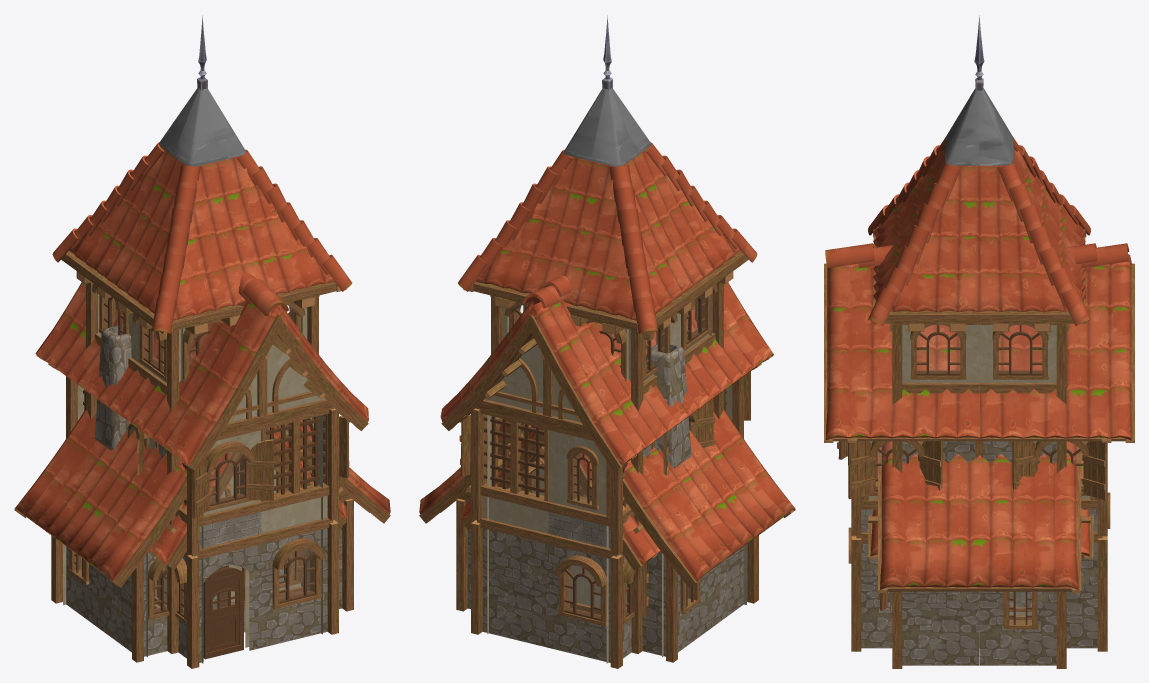
File: buildings.glb
3 renders of one model, left to right at view 1: azimuth 30°, elevation 25°; view 2: azimuth 150°, elevation 25°; view 3: azimuth 270°, elevation 25°, orthographic.
Parts seen in each view (by area): view 1: Roof_Tower_RoundTiles, Roof_RoundTiles_4x6, Roof_RoundTiles_6x4, Corner_Exterior_Wood (×11), Window_Wide_Round1 (×7), Wall_UnevenBrick_Window_Wide_Round (×3), Wall_Plaster_WoodGrid, Roof_Front_Brick4, Wall_Plaster_Window_Wide_Round (×2), Wall_UnevenBrick_Door_Round, Door_1_Round, WindowShutters_Wide_Round_Open (×2) (+4 smaller); view 2: Roof_Tower_RoundTiles, Roof_RoundTiles_4x6, Roof_RoundTiles_6x4, Wall_UnevenBrick_Straight (×3), Corner_Exterior_Wood (×11), Wall_Plaster_WoodGrid, Roof_Front_Brick4, Wall_UnevenBrick_Window_Wide_Round (×2), Wall_Plaster_Window_Thin_Round, Window_Wide_Round1 (×3), Prop_Chimney2, Roof_RoundTiles_4x4 (+5 smaller); view 3: Roof_Tower_RoundTiles, Roof_RoundTiles_4x6, Roof_RoundTiles_6x4, Wall_UnevenBrick_Straight (×5), Corner_Exterior_Wood (×7), WindowShutters_Wide_Round_Open (×2), Wall_Plaster_Window_Wide_Round (×2), Wall_UnevenBrick_Window_Thin_Round, Window_Wide_Round1 (×4), Roof_RoundTiles_4x4, Window_Thin_Round1.
Part boxes in pixels (<box>): Roof_Tower_RoundTiles: <box>52,15,352,334</box>; Roof_RoundTiles_4x6: <box>35,272,368,471</box>; Roof_RoundTiles_6x4: <box>14,409,390,587</box>; Corner_Exterior_Wood (×11): <box>51,282,353,668</box>; Window_Wide_Round1 (×7): <box>92,283,325,624</box>; Wall_UnevenBrick_Window_Wide_Round (×3): <box>144,517,332,663</box>; Wall_Plaster_WoodGrid: <box>261,410,329,533</box>; Roof_Front_Brick4: <box>219,338,334,436</box>; Wall_Plaster_Window_Wide_Round (×2): <box>132,322,262,548</box>; Wall_UnevenBrick_Door_Round: <box>193,534,262,662</box>; Door_1_Round: <box>203,567,243,659</box>; WindowShutters_Wide_Round_Open (×2): <box>192,416,349,518</box>; Roof_Tower_RoundTiles: <box>458,15,757,334</box>; Roof_RoundTiles_4x6: <box>440,270,773,471</box>; Roof_RoundTiles_6x4: <box>419,409,795,587</box>; Wall_UnevenBrick_Straight (×3): <box>477,517,747,656</box>; Corner_Exterior_Wood (×11): <box>456,282,758,668</box>; Wall_Plaster_WoodGrid: <box>480,410,548,533</box>; Roof_Front_Brick4: <box>475,338,590,436</box>; Wall_UnevenBrick_Window_Wide_Round (×2): <box>547,534,631,663</box>; Wall_Plaster_Window_Thin_Round: <box>547,426,610,548</box>; Window_Wide_Round1 (×3): <box>554,283,717,626</box>; Prop_Chimney2: <box>646,344,691,468</box>; Roof_RoundTiles_4x4: <box>461,426,660,570</box>; Roof_Tower_RoundTiles: <box>868,15,1090,331</box>; Roof_RoundTiles_4x6: <box>824,243,1134,442</box>; Roof_RoundTiles_6x4: <box>878,441,1081,593</box>; Wall_UnevenBrick_Straight (×5): <box>856,441,1102,665</box>; Corner_Exterior_Wood (×7): <box>851,324,1107,668</box>; WindowShutters_Wide_Round_Open (×2): <box>848,440,1106,500</box>; Wall_Plaster_Window_Wide_Round (×2): <box>902,325,1056,393</box>; Wall_UnevenBrick_Window_Thin_Round: <box>979,591,1056,665</box>; Window_Wide_Round1 (×4): <box>869,323,1089,495</box>; Roof_RoundTiles_4x4: <box>868,453,1093,558</box>; Window_Thin_Round1: <box>1003,591,1038,629</box>.
Size of the model in its own units: 8.25 by 16.15 by 7.57.
8 materials, 7 textured.
